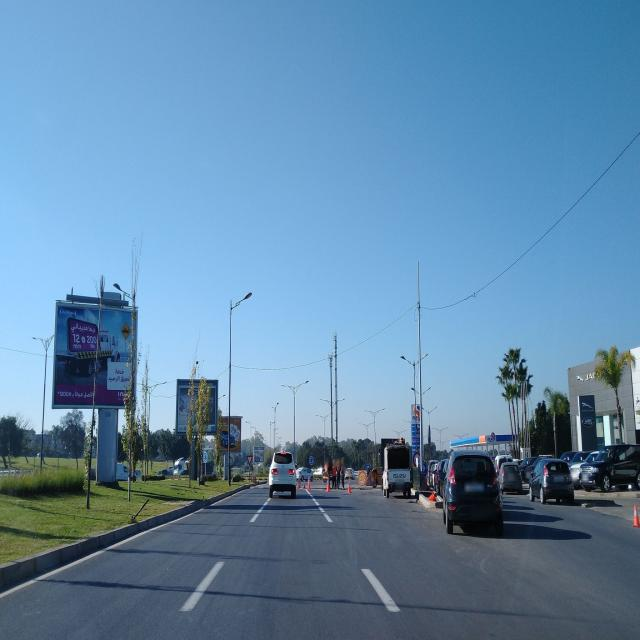car: (442, 448, 504, 537), (580, 442, 638, 491), (529, 456, 575, 505), (268, 449, 297, 499), (610, 443, 640, 491), (567, 449, 600, 488), (497, 462, 523, 494), (494, 452, 513, 472), (172, 456, 187, 476), (560, 449, 574, 463)
